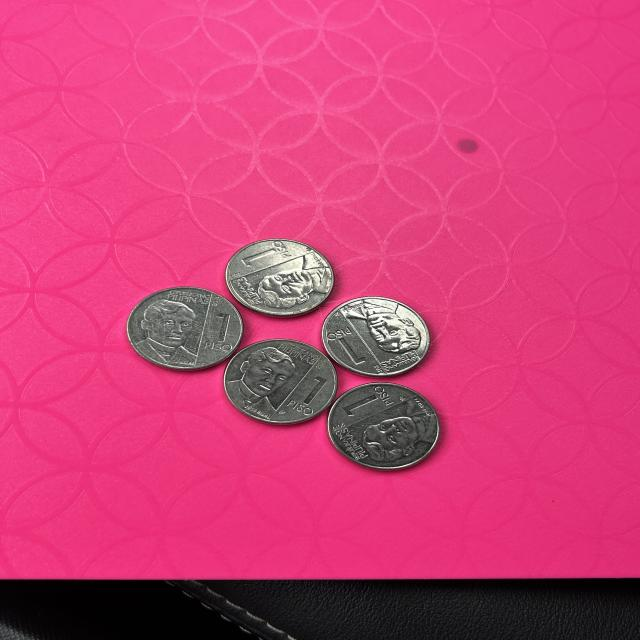1_New_Front: (240, 241, 300, 273), (286, 375, 328, 419), (343, 386, 394, 420), (328, 327, 368, 369), (203, 309, 232, 353)
